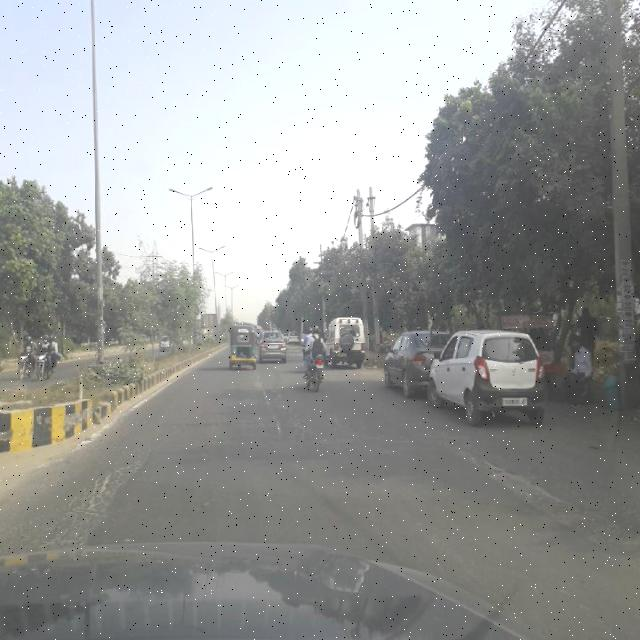D00: (261, 377, 327, 460)
D20: (27, 433, 162, 549)
